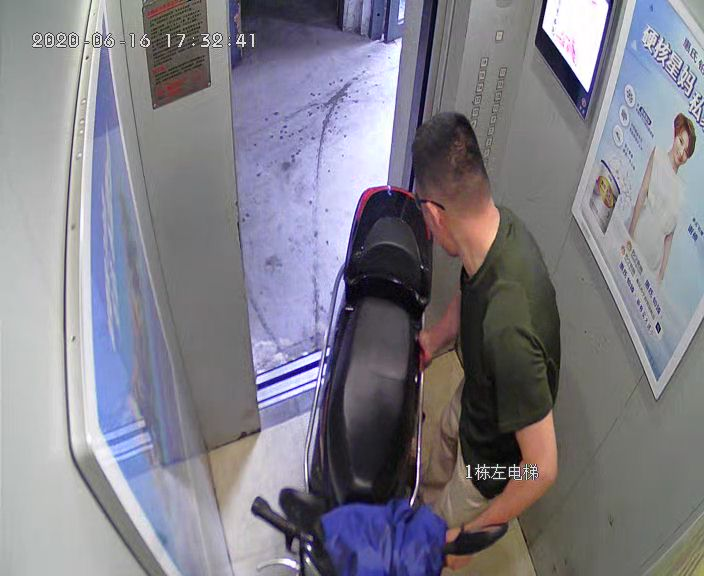Electric-bicycle: (251, 180, 507, 576)
